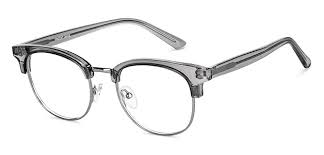g.y: (111, 54, 201, 141)
